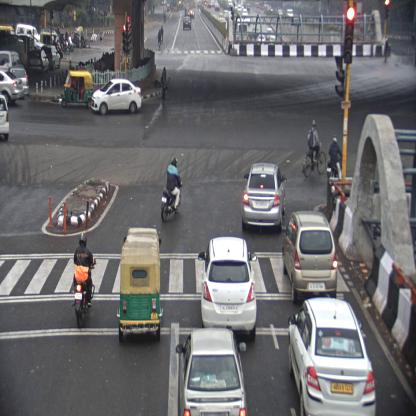car: (288, 297, 378, 415), (198, 236, 258, 350), (176, 328, 249, 416), (282, 211, 338, 305), (242, 162, 288, 232), (92, 77, 142, 117), (0, 66, 26, 107), (28, 48, 48, 74), (183, 16, 191, 30)
motorcycle: (72, 232, 95, 330), (161, 154, 182, 224), (302, 119, 326, 178), (327, 134, 344, 184)
